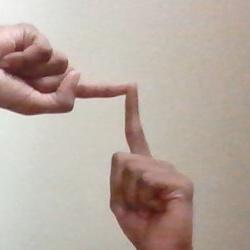E: (1, 6, 240, 250)
